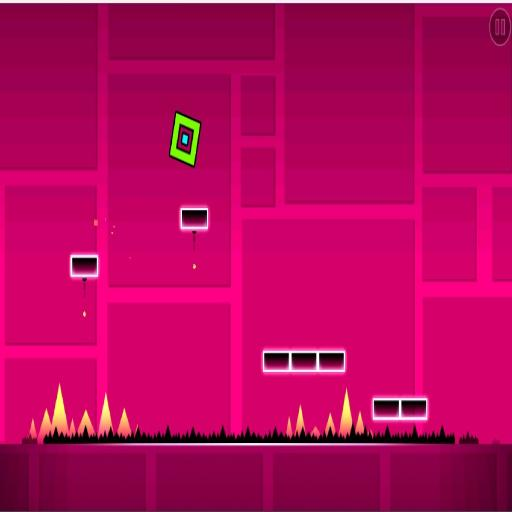block: (259, 346, 349, 376), (369, 398, 432, 420), (177, 208, 212, 232), (69, 255, 102, 278)
player: (169, 111, 201, 166)
spike: (52, 385, 68, 435), (98, 393, 113, 436), (340, 389, 352, 436), (38, 409, 51, 443), (78, 410, 94, 435), (118, 409, 131, 437), (296, 406, 304, 434), (325, 414, 335, 435), (29, 418, 37, 439), (356, 411, 363, 434), (286, 417, 292, 437), (69, 418, 75, 437), (311, 426, 320, 438), (368, 428, 372, 437), (135, 425, 139, 433)
